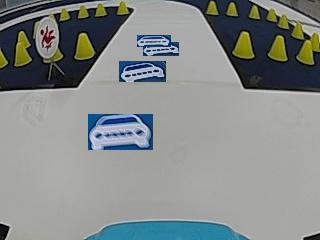cone: (232, 30, 255, 60), (74, 32, 95, 60), (268, 35, 288, 62), (296, 40, 313, 65), (14, 42, 30, 66), (291, 20, 304, 39), (205, 0, 219, 16), (94, 2, 107, 17), (248, 4, 260, 20), (226, 1, 238, 16), (116, 0, 128, 15), (310, 31, 319, 51), (277, 12, 288, 28), (77, 4, 88, 19), (59, 7, 70, 21), (266, 7, 276, 22), (0, 49, 7, 68)
tumble: (35, 19, 58, 55)
